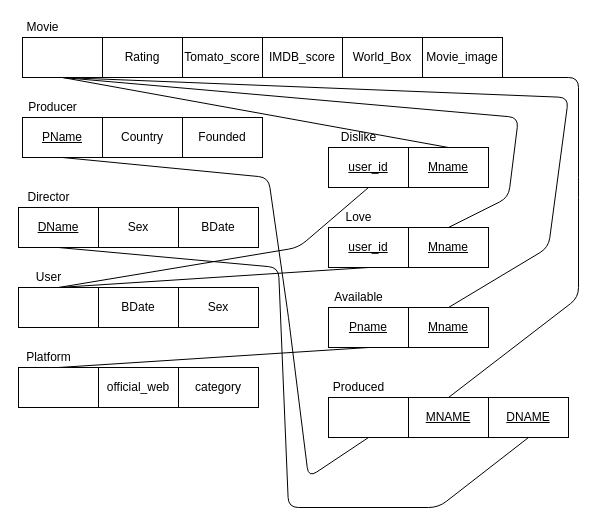
Some shapes in this 597 by 526 pixel diagram are drawn without their labels. Each missing label, with the box of its shape:
id: (18, 286, 98, 328)
Movie_Name: (22, 36, 102, 78)
Plat_Name: (18, 366, 98, 408)
ProdName: (328, 396, 408, 438)
